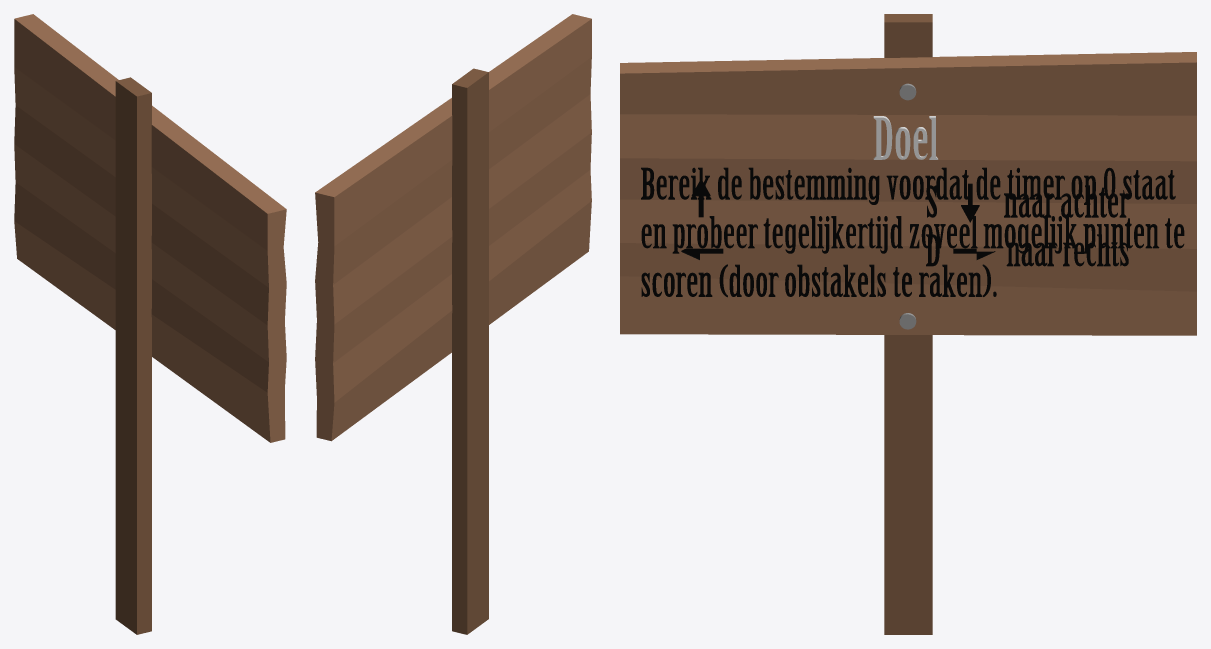
Rendered from Bord_doel.fbx.
3 views of the same model, side by side, from view 1: azimuth 30°, elevation 25°; view 2: azimuth 150°, elevation 25°; view 3: azimuth 270°, elevation 25° (orthographic). The views are drawn at different scales.
Visible parts, largest first — view 1: Cube, Cube.001; view 2: Cube, Cube.001; view 3: Cube, Subtexr, Cube.001, Subtexr.001, MAIN TEXT.
Boxes of the visible parts, left/top/right/bottom form: Cube: left=14, top=14, right=286, bottom=442; Cube.001: left=115, top=77, right=151, bottom=634; Cube: left=315, top=14, right=591, bottom=441; Cube.001: left=452, top=68, right=488, bottom=634; Cube: left=620, top=52, right=1196, bottom=335; Subtexr: left=641, top=167, right=1184, bottom=297; Cube.001: left=884, top=14, right=932, bottom=634; Subtexr.001: left=926, top=185, right=1128, bottom=266; MAIN TEXT: left=873, top=116, right=938, bottom=159.
Size of the model in its own units: 33.51 by 466 by 398.
